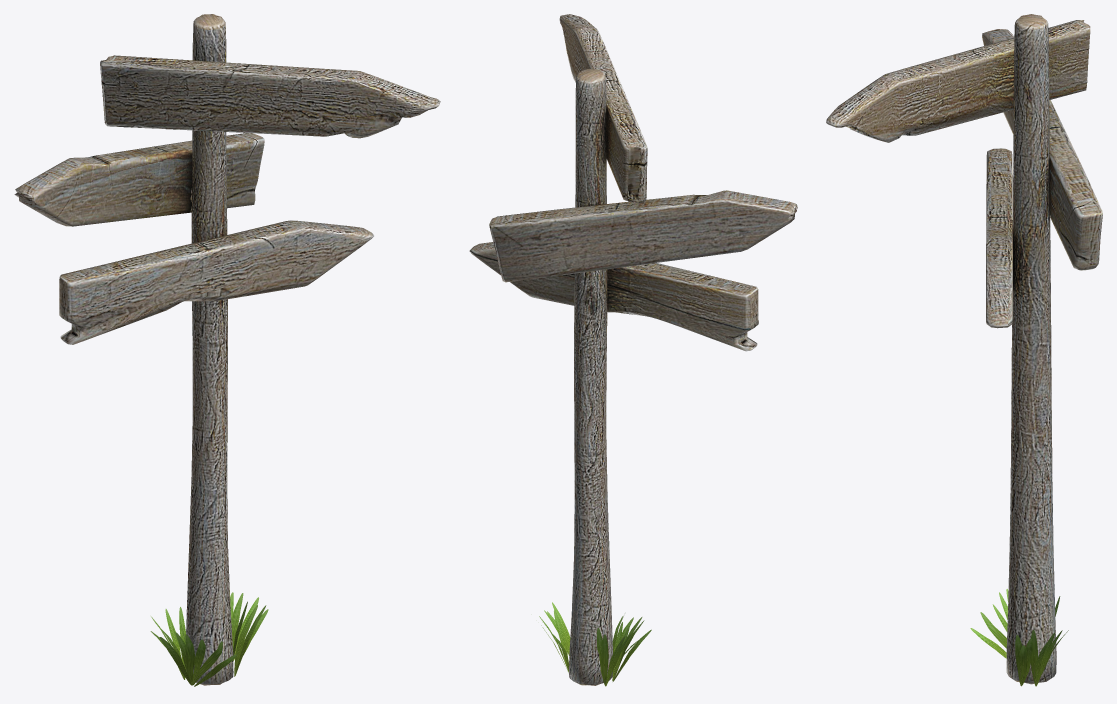
The model's file is signpost.glb.
3 views of the same model, side by side, from view 1: azimuth 30°, elevation 25°; view 2: azimuth 150°, elevation 25°; view 3: azimuth 270°, elevation 25° (orthographic). The views are drawn at different scales.
Parts seen in each view (by area): view 1: UKAZ3_LOW; view 2: UKAZ3_LOW; view 3: UKAZ3_LOW.
Boxes of the visible parts, x1,y1,x2,y2 form: UKAZ3_LOW: [14, 14, 440, 686]; UKAZ3_LOW: [469, 14, 797, 686]; UKAZ3_LOW: [826, 14, 1102, 686].
Bounding box in the file's own units: 554 × 995 × 377.
Materials: 2 (2 with a texture image).
